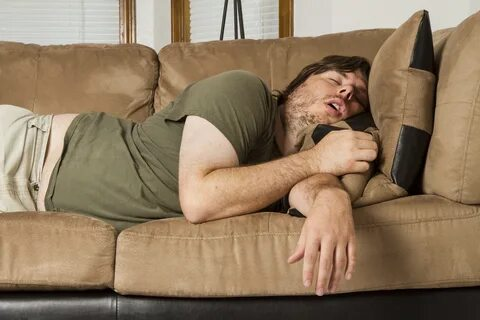sleep: (1, 54, 379, 216)
